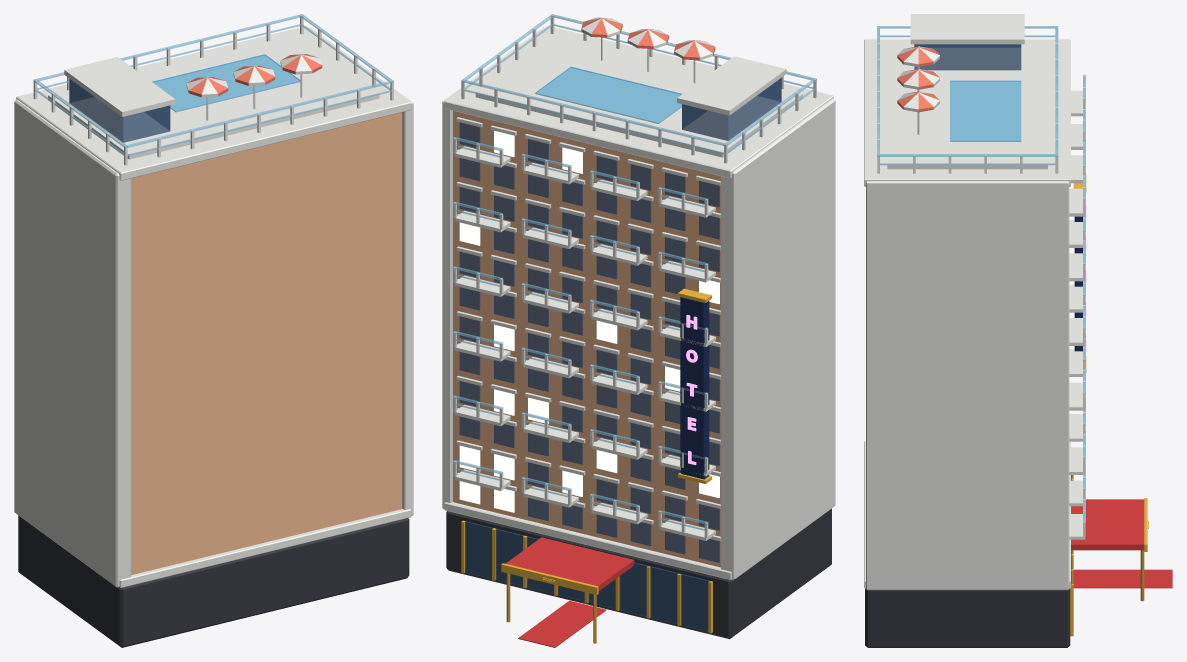
Rendered from Hotel.fbx.
3 renders of one model, left to right at view 1: azimuth 30°, elevation 25°; view 2: azimuth 150°, elevation 25°; view 3: azimuth 270°, elevation 25°, orthographic.
Parts seen in each view (by area): view 1: Hotel_Peach, Hotel_White, Hotel_MarbleDark, Hotel_Glass, Hotel_Water, Hotel_GlassDark, Hotel_Coral; view 2: Hotel_White, Hotel_Peach, Hotel_GlassDark, Hotel_MarbleDark, Hotel_Glass, Hotel_WindowGlow, Hotel_Red, Hotel_Navy, Hotel_Water, Hotel_Gold, Hotel_Coral; view 3: Hotel_White, Hotel_MarbleDark, Hotel_Red, Hotel_Water, Hotel_Glass, Hotel_GlassDark, Hotel_Coral, Hotel_Gold.
Boxes of the visible parts, x1,y1,x2,y2 form: Hotel_Peach: (131,112,402,574); Hotel_White: (14,15,413,587); Hotel_MarbleDark: (18,515,409,647); Hotel_Glass: (33,14,393,156); Hotel_Water: (152,54,300,112); Hotel_GlassDark: (69,78,170,142); Hotel_Coral: (187,54,322,97); Hotel_White: (442,15,835,579); Hotel_Peach: (453,111,720,567); Hotel_GlassDark: (459,78,781,631); Hotel_MarbleDark: (446,508,831,639); Hotel_Glass: (453,14,816,530); Hotel_WindowGlow: (459,130,719,512); Hotel_Red: (505,537,634,647); Hotel_Navy: (680,297,709,479); Hotel_Water: (535,67,681,123); Hotel_Gold: (461,288,712,633); Hotel_Coral: (581,17,715,60); Hotel_White: (864,14,1085,589); Hotel_MarbleDark: (865,588,1070,647); Hotel_Red: (1071,499,1172,588); Hotel_Water: (950,80,1021,141); Hotel_Glass: (877,26,1085,522); Hotel_GlassDark: (914,44,1071,584); Hotel_Coral: (897,46,939,112); Hotel_Gold: (1070,175,1148,636).
Bounding box in the file's own units: 38 × 64 × 34.6.
